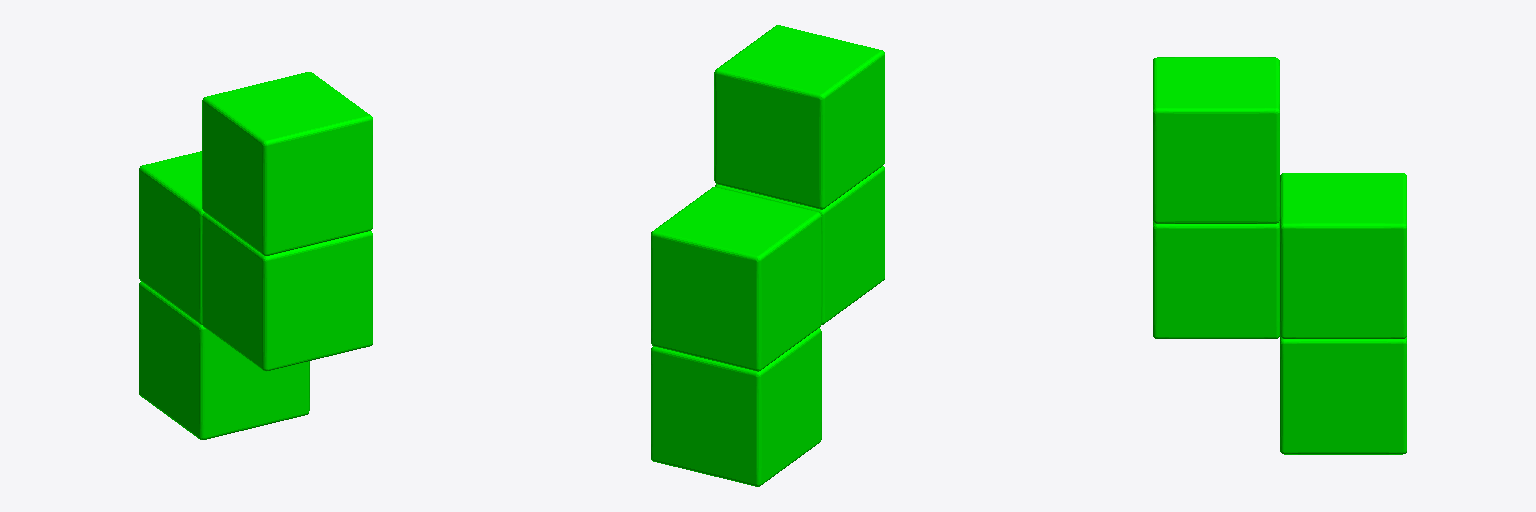
The model's file is Tetris-S.obj.
The picture shows the model from 3 angles: view 1: azimuth 30°, elevation 25°; view 2: azimuth 150°, elevation 25°; view 3: azimuth 270°, elevation 25°; orthographic projection.
Bounding box in the file's own units: 15 × 45 × 30.